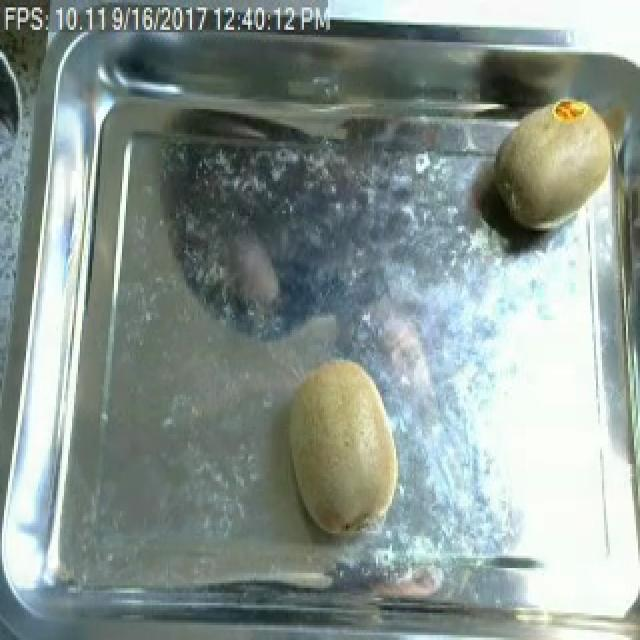Fruit: (276, 352, 406, 541), (484, 97, 630, 246)
